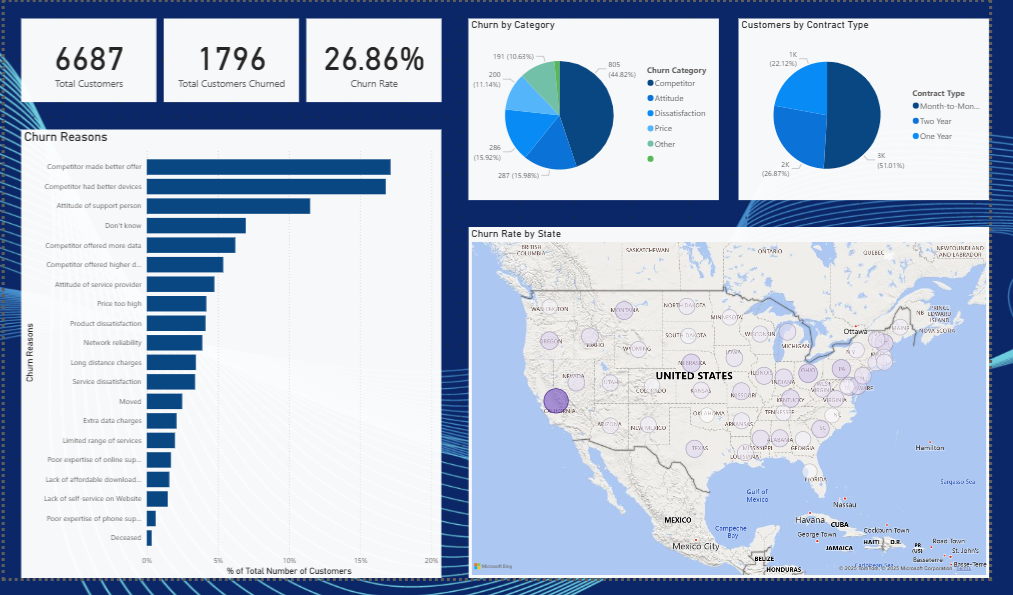

The dashboard page shown, as its layout file describes it:
{"tool":"powerbi","page":{"name":"Overview","canvas":[1640,960],"ordinal":11},"visuals":[{"type":"clusteredBarChart","title":"Churn Reasons","fields":{"Category":["Databel - Data.Churn Reason"],"Y":["CountNonNull(Databel - Data.Number of Customers in Group)"]},"box":[26.5,212,700.1,748.7],"z":0},{"type":"card","fields":{"Values":["CountNonNull(Databel - Data.Customer ID)"]},"box":[26.5,26.5,225.3,139.1],"z":1000},{"type":"card","fields":{"Values":["Sum(Databel - Data.Churned)"]},"box":[265,26.5,225.3,139.1],"z":2000},{"type":"card","fields":{"Values":["Databel - Data.Churn Rate"]},"box":[501.4,26.5,225.3,139.1],"z":3000},{"type":"pieChart","title":"Churn by Category","fields":{"Category":["Databel - Data.Churn Category"],"Y":["Databel - Data.Number of Customers Churned"]},"box":[773,26.5,417.4,302.6],"z":4000},{"type":"pieChart","title":"Customers by Contract Type","fields":{"Y":["Databel - Data.Number of Customers"],"Category":["Databel - Data.Contract Type"]},"box":[1223.6,26.5,417.4,302.6],"z":5000},{"type":"map","title":"Churn Rate by State","fields":{"Size":["Databel - Data.Churn Rate"],"Category":["Databel - Data.State"]},"box":[773,375.5,868,585.3],"z":6000}]}

Visuals, with their boxes in screenshot pixels (x1, y1, x2, y2), scaled from the page's 1640x960 canvas onto the 1013x595 screenshot:
"Churn Reasons" clusteredBarChart: box=[16, 131, 449, 594]
card - CountNonNull(Databel - Data.Customer ID): box=[16, 16, 156, 103]
card - Sum(Databel - Data.Churned): box=[164, 16, 303, 103]
card - Databel - Data.Churn Rate: box=[310, 16, 449, 103]
"Churn by Category" pieChart: box=[477, 16, 735, 204]
"Customers by Contract Type" pieChart: box=[756, 16, 1012, 204]
"Churn Rate by State" map: box=[477, 233, 1012, 594]
